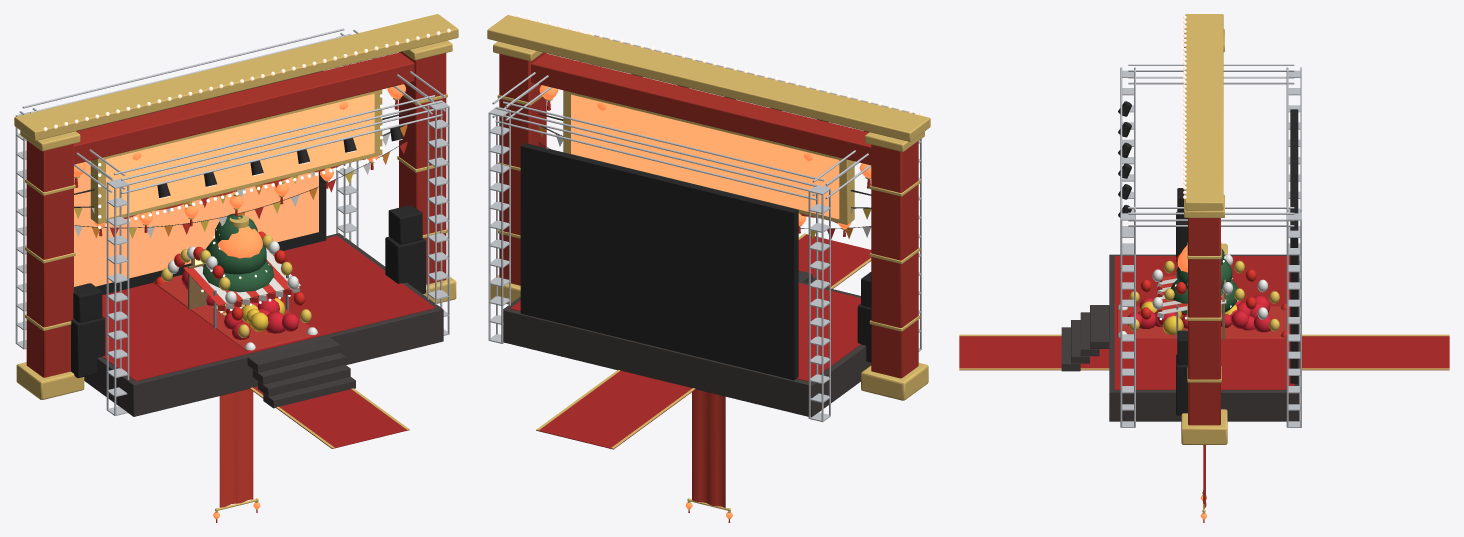
File: festival.glb
3 renders of one model, left to right at view 1: azimuth 30°, elevation 25°; view 2: azimuth 150°, elevation 25°; view 3: azimuth 270°, elevation 25°, orthographic. The views are drawn at different scales.
Parts seen in each view (by area): view 1: stage, arch, parade_float, carpet, drop_banner, stall, light_tree, bunting_span, lantern_span; view 2: stage, arch, carpet, drop_banner; view 3: stage, arch, carpet, parade_float, light_tree, stall.
Boxes of the visible parts, x1=… form: stage: x1=15, y1=28, x2=449, y2=416; arch: x1=14, y1=14, x2=458, y2=399; parade_float: x1=153, y1=215, x2=319, y2=351; carpet: x1=250, y1=386, x2=409, y2=448; drop_banner: x1=213, y1=389, x2=260, y2=522; stall: x1=183, y1=248, x2=300, y2=328; light_tree: x1=201, y1=213, x2=273, y2=301; bunting_span: x1=74, y1=124, x2=407, y2=238; lantern_span: x1=74, y1=125, x2=403, y2=236; stage: x1=488, y1=35, x2=921, y2=422; arch: x1=487, y1=14, x2=930, y2=400; carpet: x1=536, y1=233, x2=871, y2=449; drop_banner: x1=685, y1=389, x2=732, y2=522; stage: x1=1061, y1=64, x2=1301, y2=427; arch: x1=1181, y1=14, x2=1227, y2=444; carpet: x1=959, y1=334, x2=1449, y2=370; parade_float: x1=1117, y1=245, x2=1290, y2=338; light_tree: x1=1170, y1=248, x2=1238, y2=319; stall: x1=1157, y1=272, x2=1226, y2=339.
Size of the model in its own units: 16.4 by 16.53 by 18.
